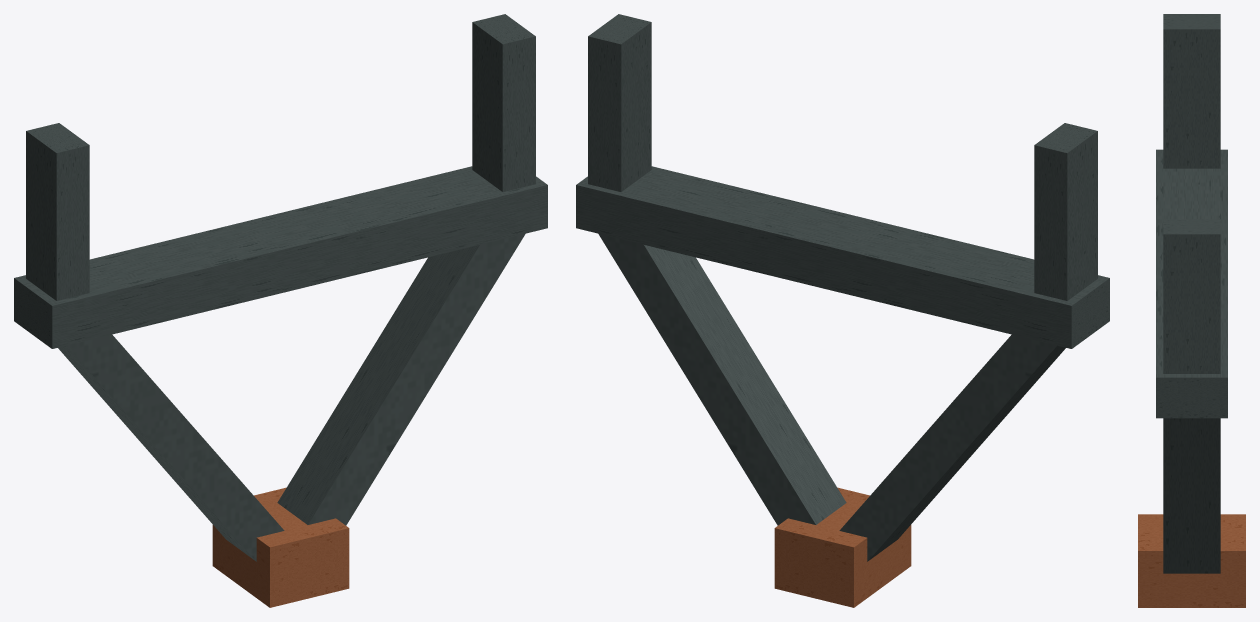
Rendered from UnderDeckBrace.fbx.
3 renders of one model, left to right at view 1: azimuth 30°, elevation 25°; view 2: azimuth 150°, elevation 25°; view 3: azimuth 270°, elevation 25°, orthographic. The views are drawn at different scales.
Parts seen in each view (by area): view 1: UnderDeckBrace; view 2: UnderDeckBrace; view 3: UnderDeckBrace.
Boxes of the visible parts, x1=… form: UnderDeckBrace: x1=14, y1=14, x2=547, y2=607; UnderDeckBrace: x1=576, y1=14, x2=1109, y2=607; UnderDeckBrace: x1=1138, y1=14, x2=1245, y2=607.
Size of the model in its own units: 300 by 286 by 60.
